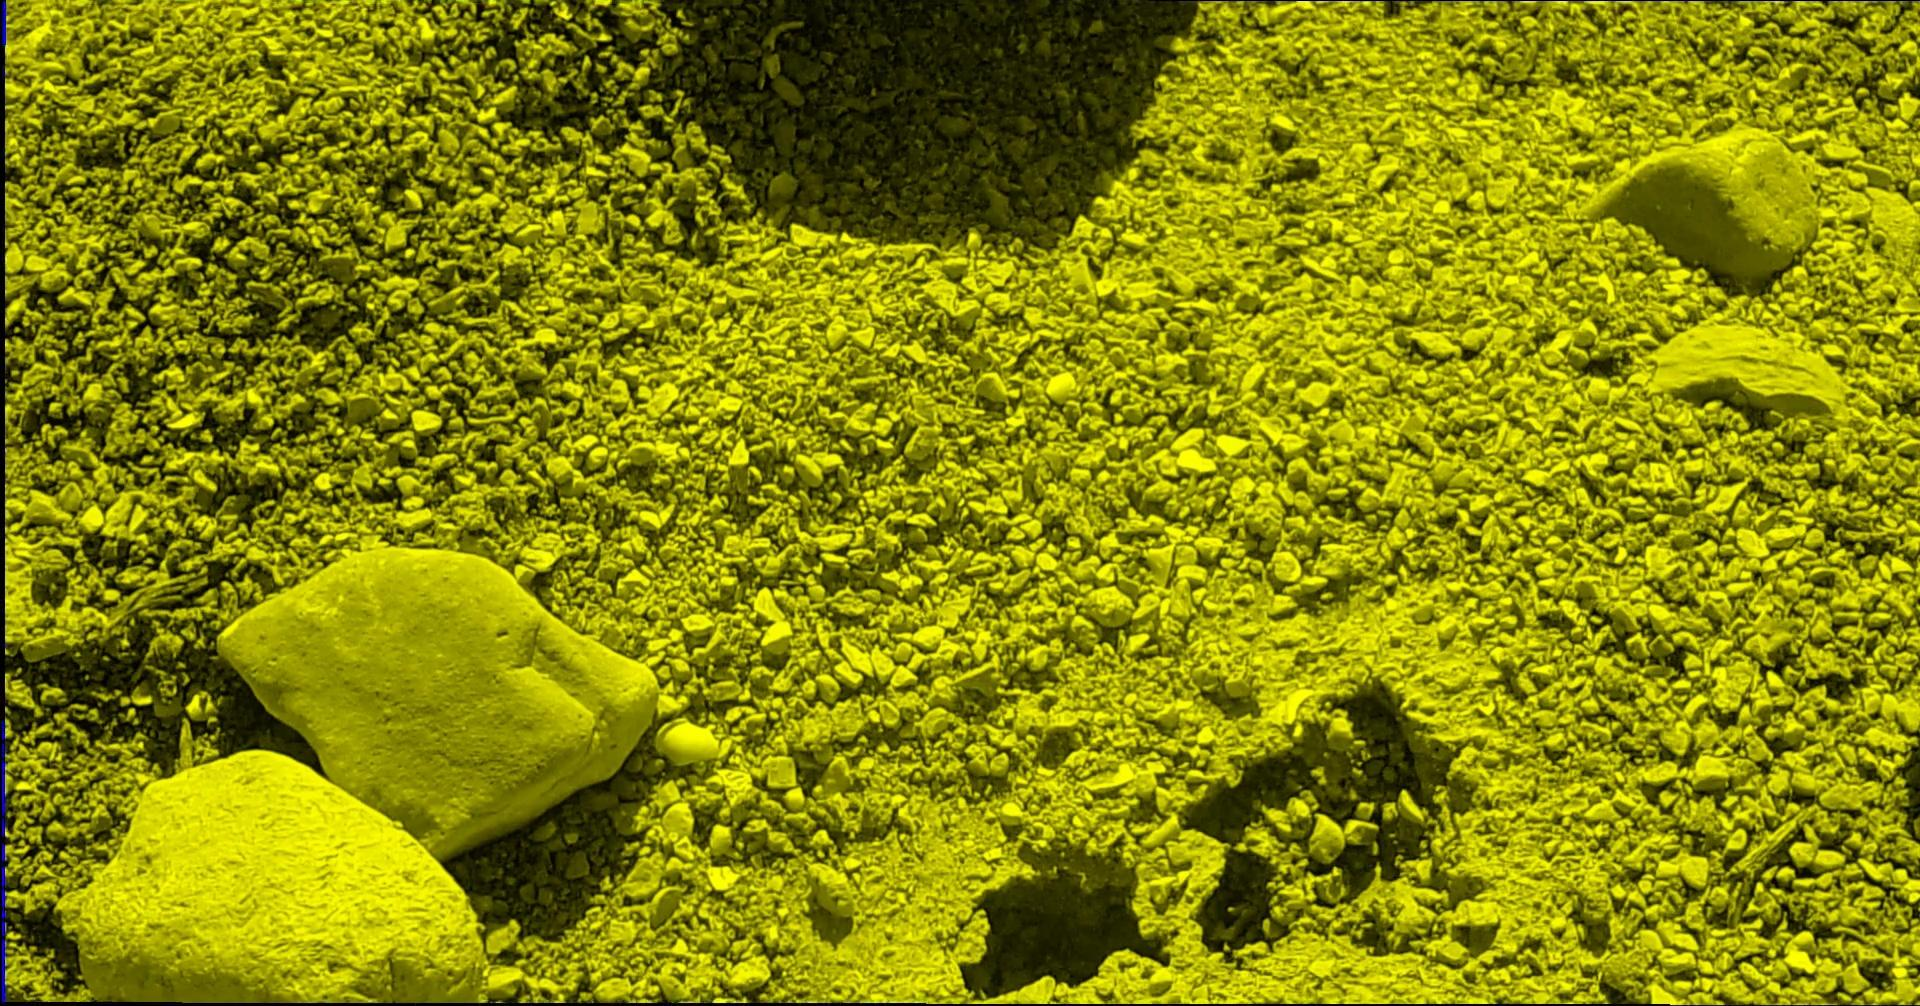ant: (0, 842, 6, 1005), (0, 719, 6, 837), (0, 0, 6, 44)
